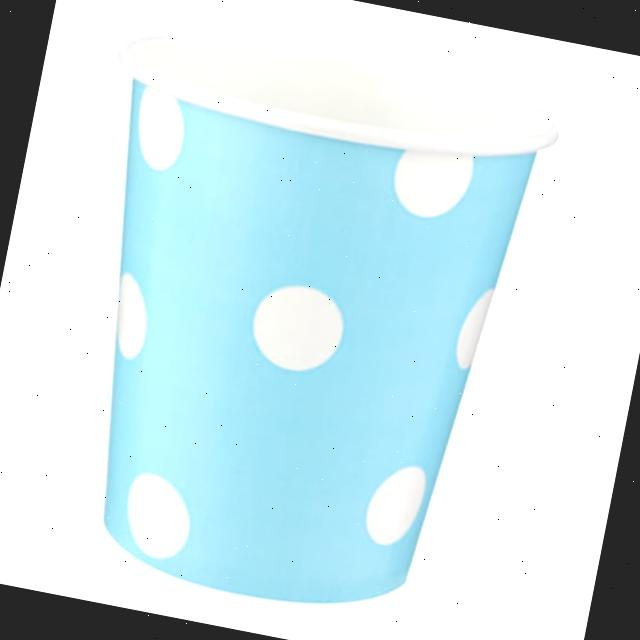trash: (34, 0, 572, 635)
